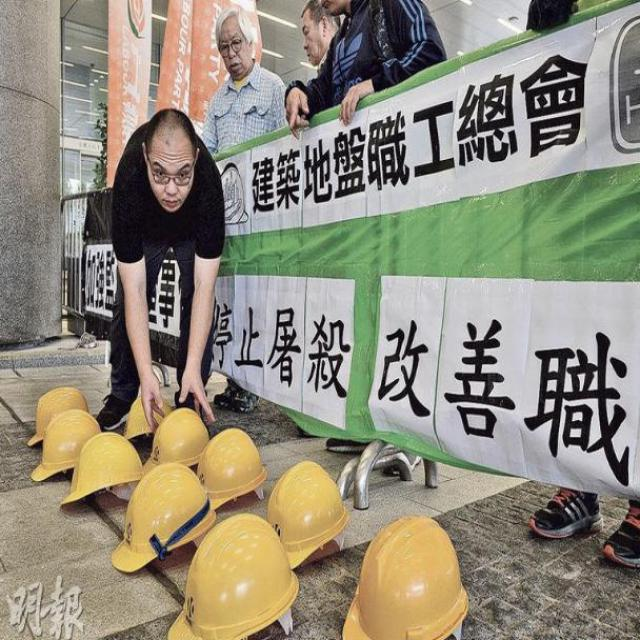helmet: (324, 500, 463, 639), (198, 513, 291, 639), (257, 443, 343, 550), (22, 373, 94, 459), (130, 474, 206, 552), (72, 415, 132, 510), (198, 424, 262, 511), (152, 398, 202, 463)
